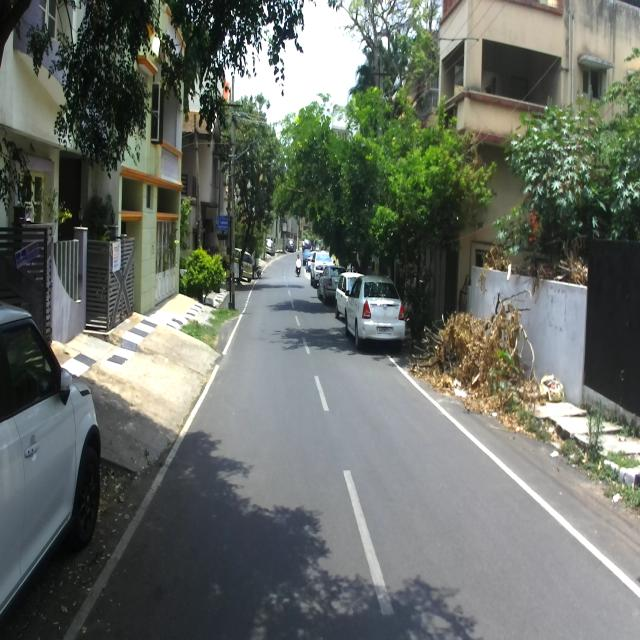car ahead at: (0, 297, 106, 634), (345, 270, 410, 354)
